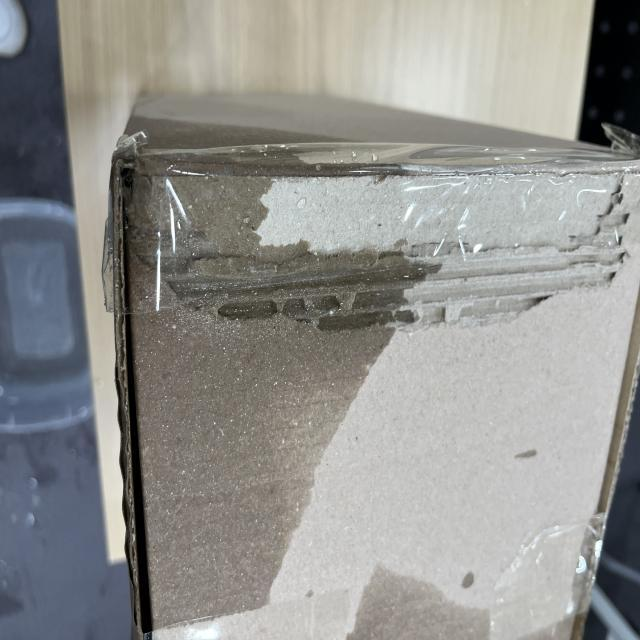wet: (98, 155, 428, 619)
